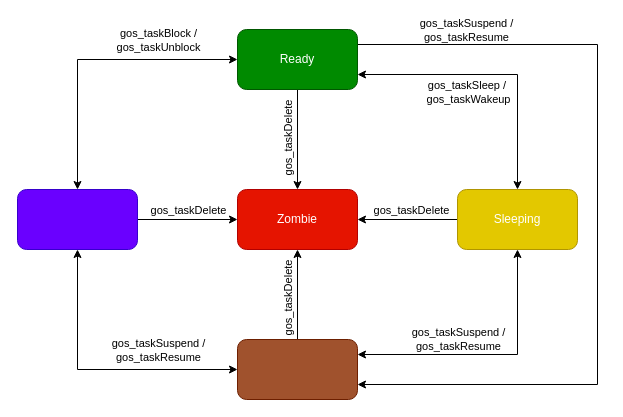
The diagram is 623 pixels wide and 417 high, and some of its shapes have lost their labels. Here are the shapes that lost their labels. From the top down, the centre of each, then its label:
[77,219]: Blocked
[297,369]: Suspended
